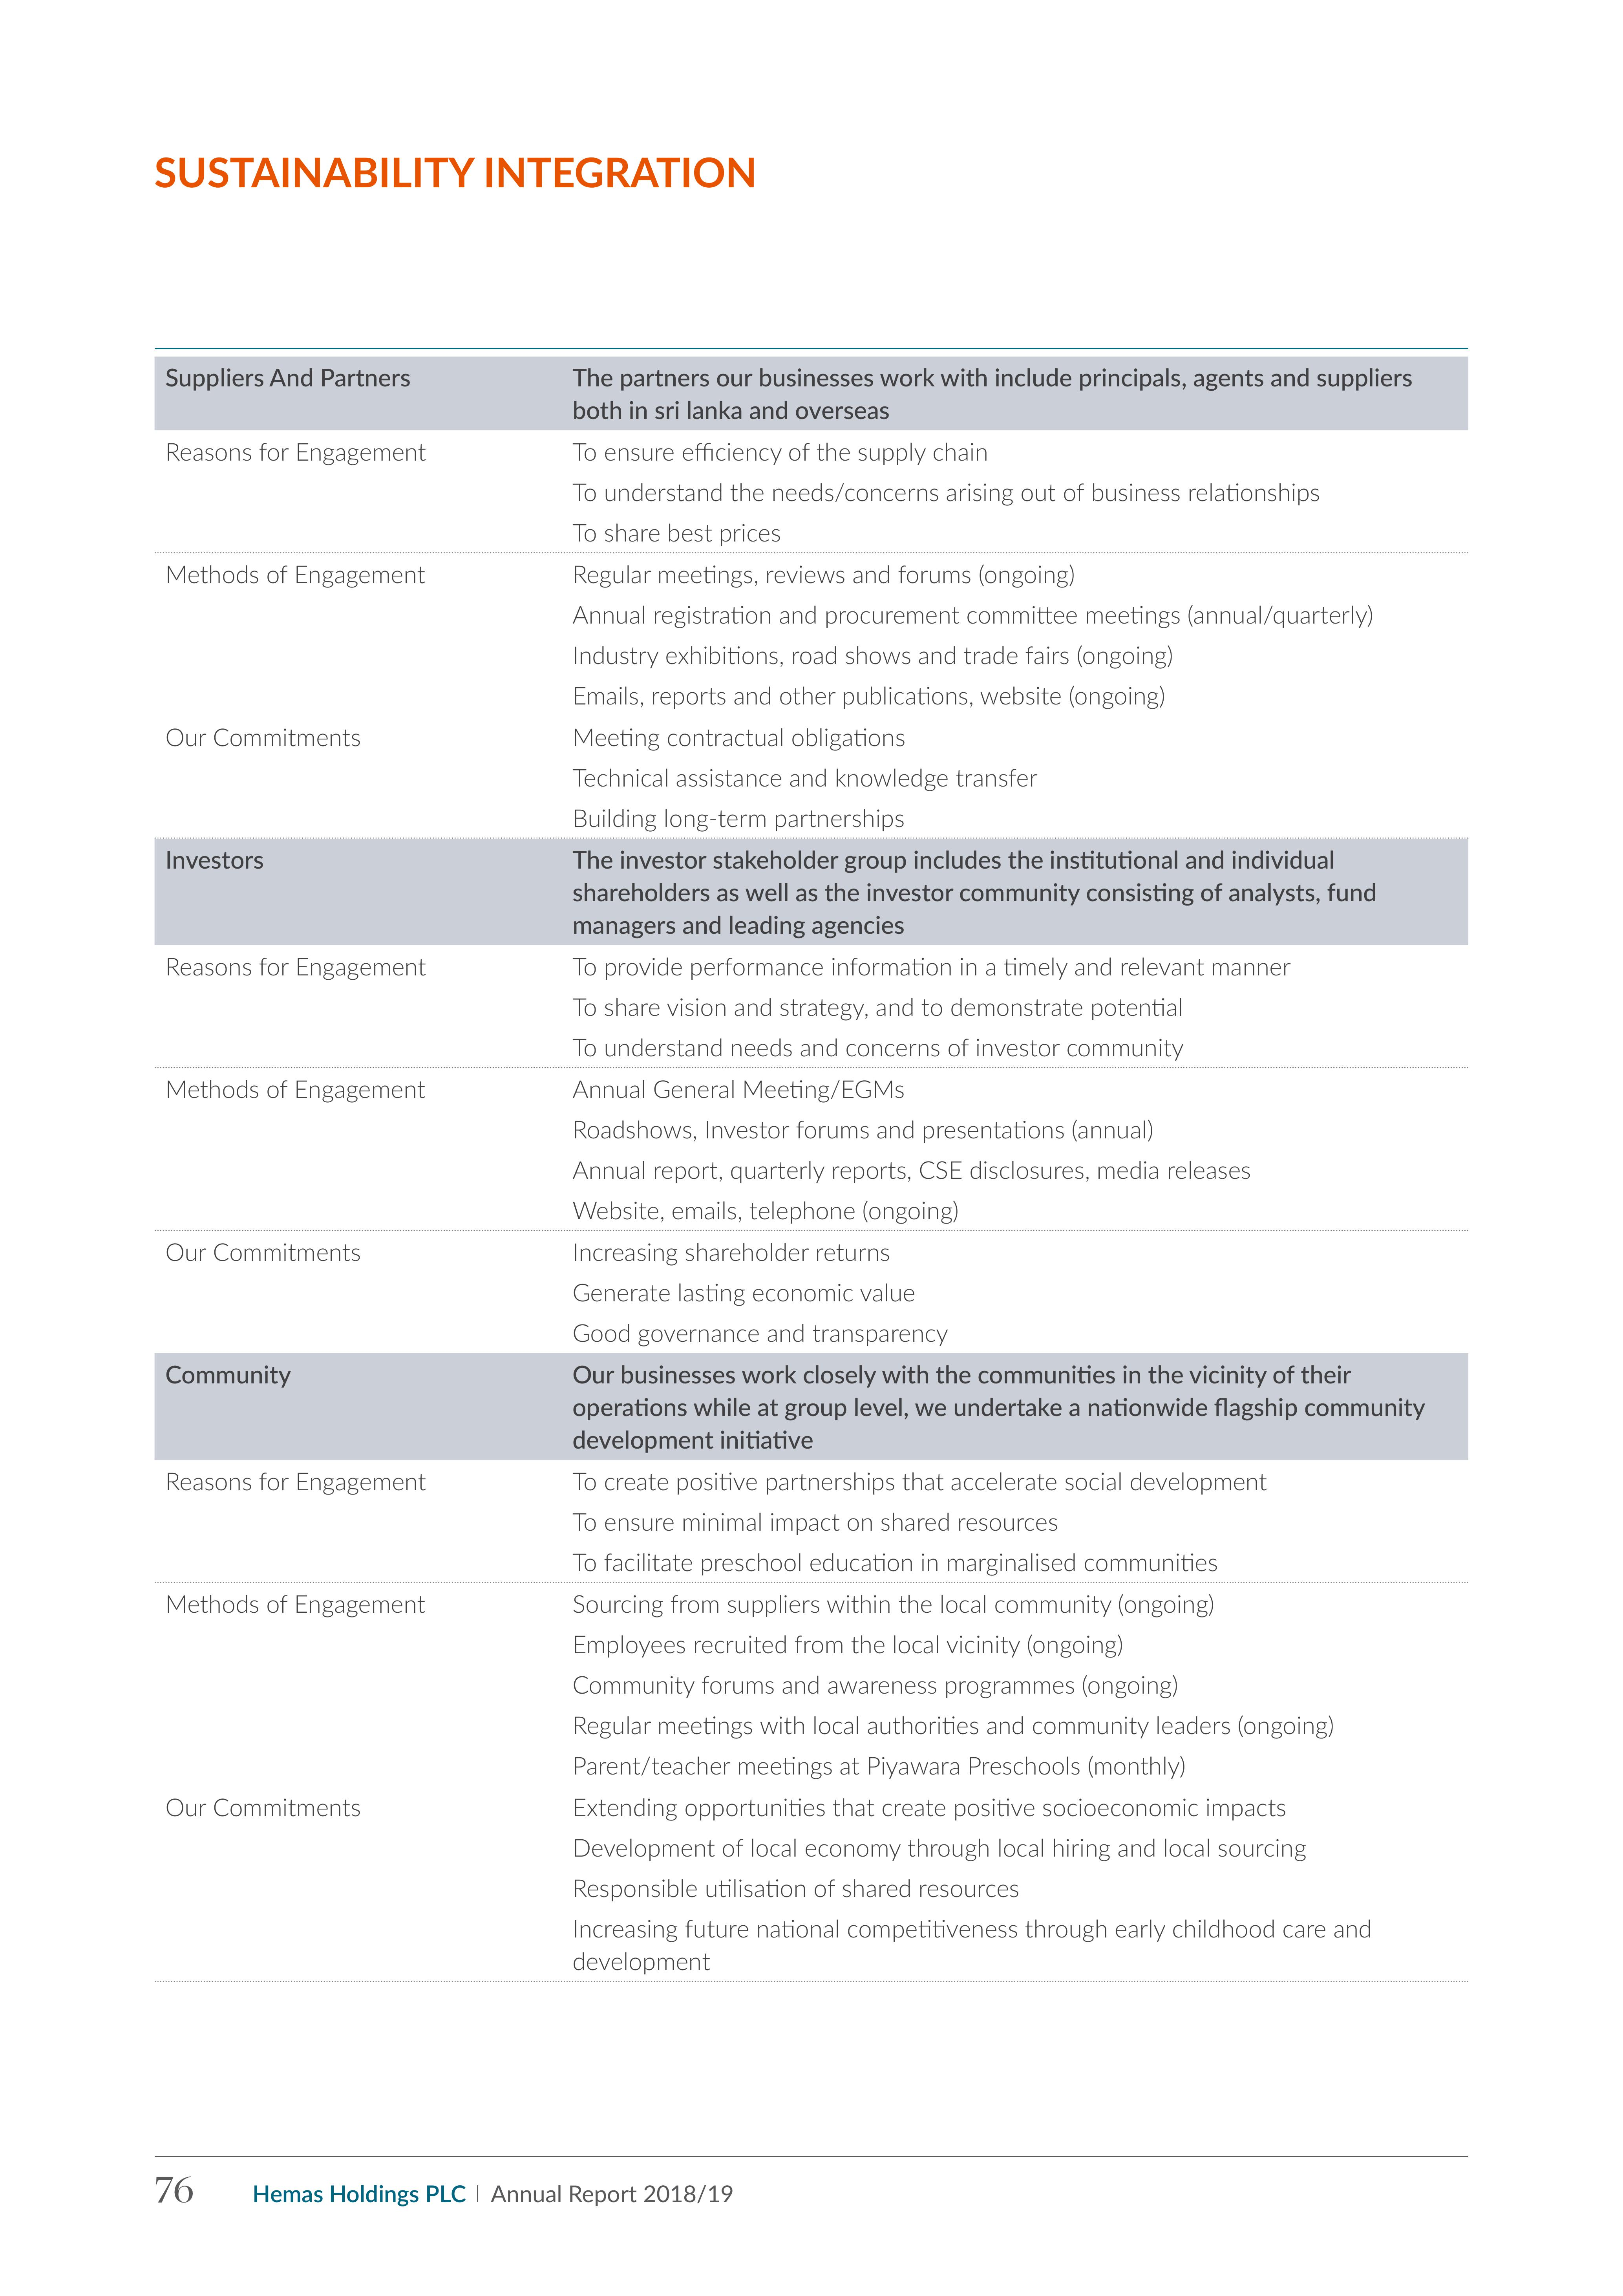table: (144, 336, 1482, 2003)
